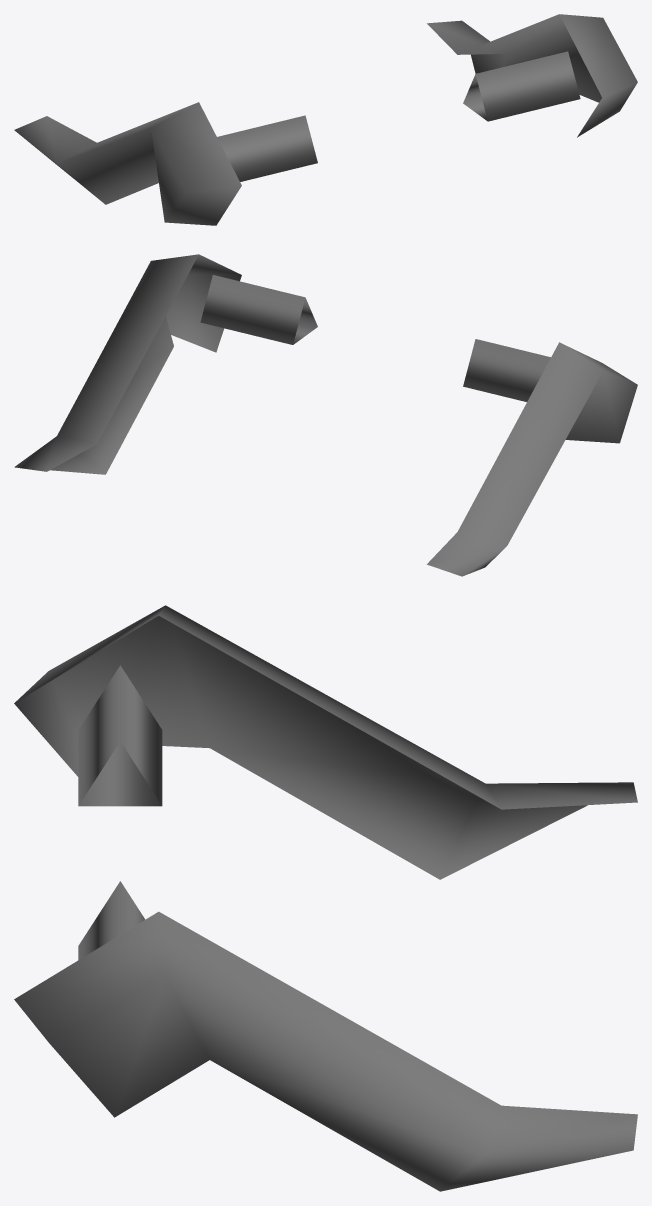
Rendered from handle.glb.
3 renders of one model, top to bottom at view 1: azimuth 30°, elevation 25°; view 2: azimuth 150°, elevation 25°; view 3: azimuth 270°, elevation 25°, orthographic. The views are drawn at different scales.
Parts seen in each view (by area): view 1: unnamed.003; view 2: unnamed.003; view 3: unnamed.003.
Part boxes in pixels (x1,y1,x2,y2): unnamed.003: (14, 14, 637, 225); unnamed.003: (14, 254, 637, 576); unnamed.003: (14, 605, 637, 1191).
Bounding box in the file's own units: 0.3407 × 0.1157 × 0.2403.
Materials: 1 (1 with a texture image).
